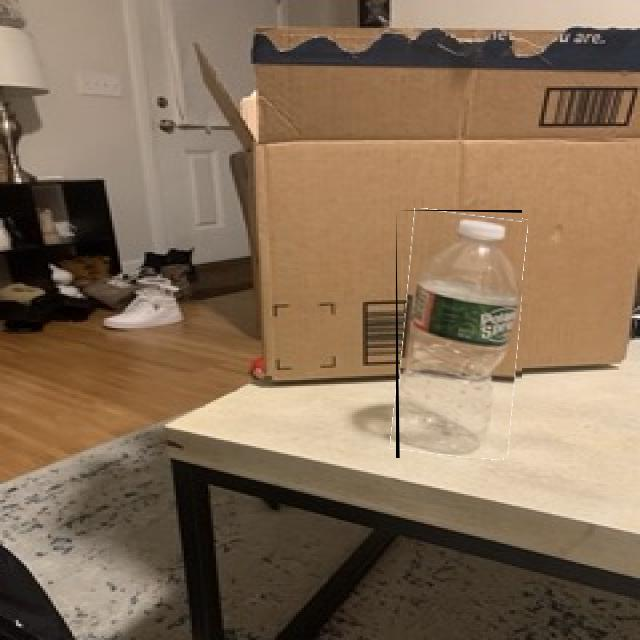water_bottle: (396, 210, 522, 458)
